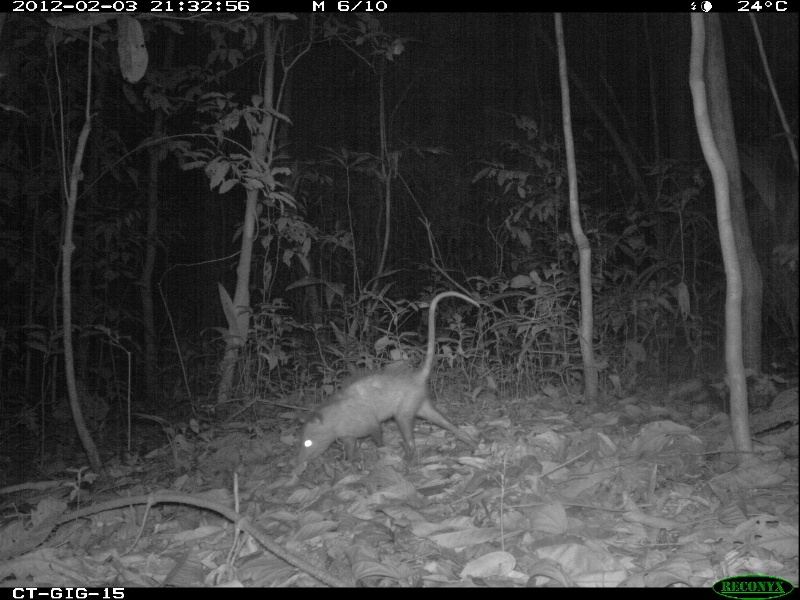opossum: (295, 287, 483, 474)
